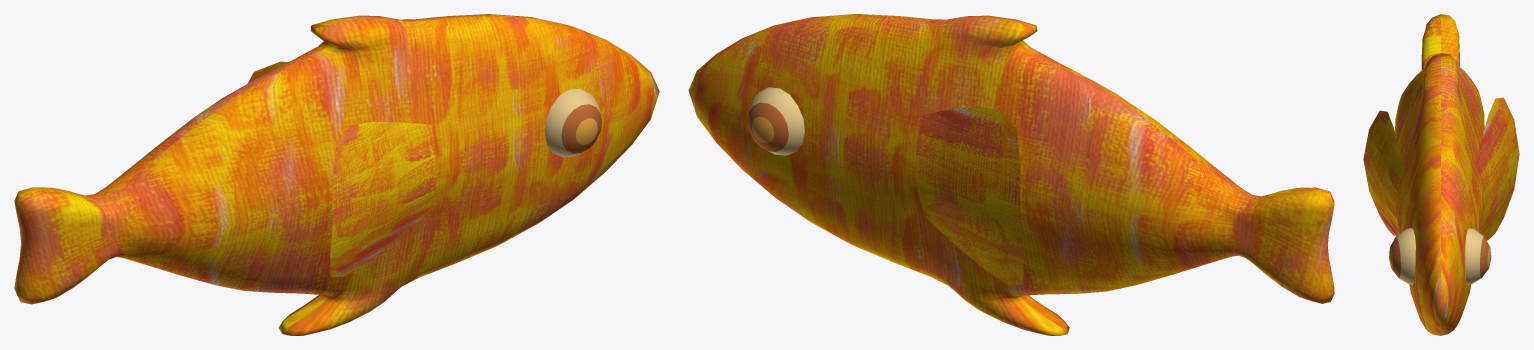
File: NEWorangefish.fbx
The picture shows the model from 3 angles, left to right: view 1: azimuth 30°, elevation 25°; view 2: azimuth 150°, elevation 25°; view 3: azimuth 270°, elevation 25°; orthographic projection. The views are drawn at different scales.
Parts seen in each view (by area): view 1: Plane.003, Sphere.001; view 2: Plane.003, Sphere.001; view 3: Plane.003, Sphere.001.
Part boxes in pixels (x1,y1,x2,y2): Plane.003: (14,14,659,335); Sphere.001: (544,88,601,157); Plane.003: (688,14,1334,335); Sphere.001: (747,87,804,155); Plane.003: (1363,14,1519,335); Sphere.001: (1389,228,1491,284).
Bounding box in the file's own units: 1019 × 457 × 268.
4 materials, 1 textured.
